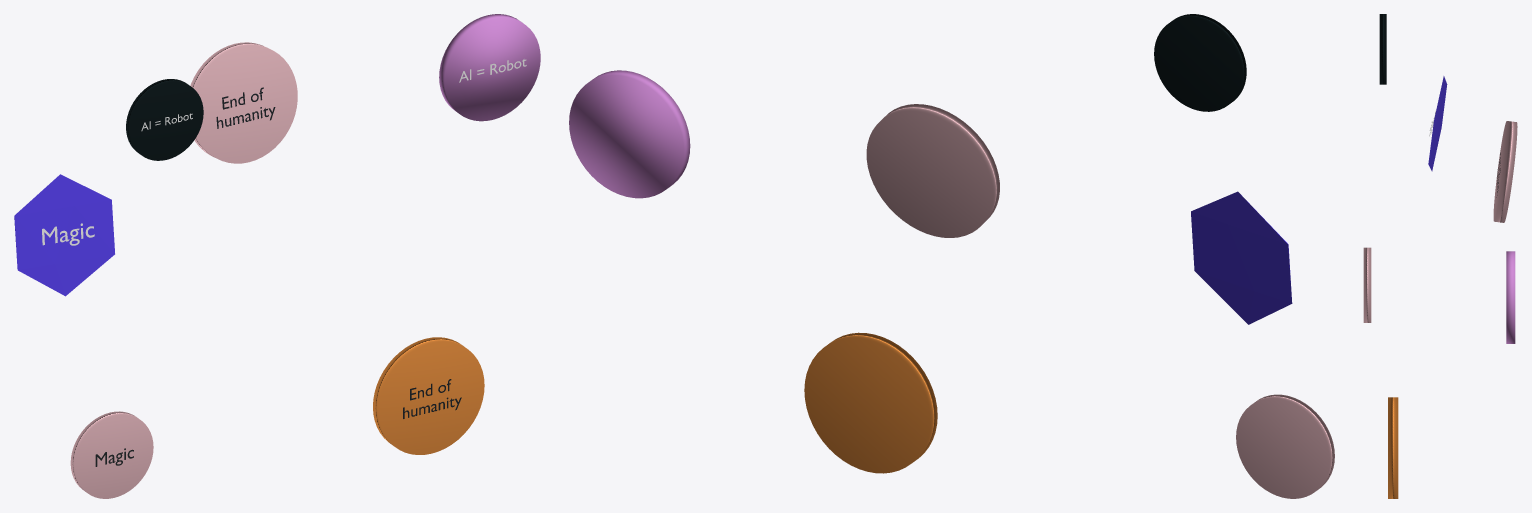
3 renders of one model, left to right at view 1: azimuth 30°, elevation 25°; view 2: azimuth 150°, elevation 25°; view 3: azimuth 270°, elevation 25°, orthographic. The views are drawn at different scales.
Visible parts, largest first — view 1: Cylinder.003, Cylinder.001, Icosphere, Text.002, Cylinder.002, Cylinder.005; view 2: Cylinder.003, Cylinder.001, Text.002, Icosphere, Cylinder.002, Cylinder.005; view 3: Cylinder.001, Cylinder.003, Text.002, Icosphere, Cylinder.002, Cylinder.005.
Part boxes in pixels (left/top/right/bottom): Cylinder.003: left=373, top=337, right=484, bottom=454; Cylinder.001: left=190, top=42, right=297, bottom=163; Icosphere: left=14, top=174, right=114, bottom=296; Text.002: left=439, top=14, right=540, bottom=121; Cylinder.002: left=70, top=411, right=153, bottom=498; Cylinder.005: left=126, top=79, right=203, bottom=160; Cylinder.003: left=804, top=332, right=937, bottom=473; Cylinder.001: left=866, top=104, right=999, bottom=237; Text.002: left=569, top=70, right=690, bottom=198; Icosphere: left=1191, top=191, right=1292, bottom=324; Cylinder.002: left=1236, top=394, right=1334, bottom=498; Cylinder.005: left=1154, top=14, right=1246, bottom=111; Cylinder.001: left=1493, top=121, right=1517, bottom=222; Cylinder.003: left=1388, top=397, right=1398, bottom=498; Text.002: left=1506, top=251, right=1515, bottom=343; Icosphere: left=1428, top=76, right=1447, bottom=171; Cylinder.002: left=1363, top=247, right=1371, bottom=322; Cylinder.005: left=1379, top=14, right=1386, bottom=84.
Size of the model in its own units: 6.19 by 4.64 by 1.76.
